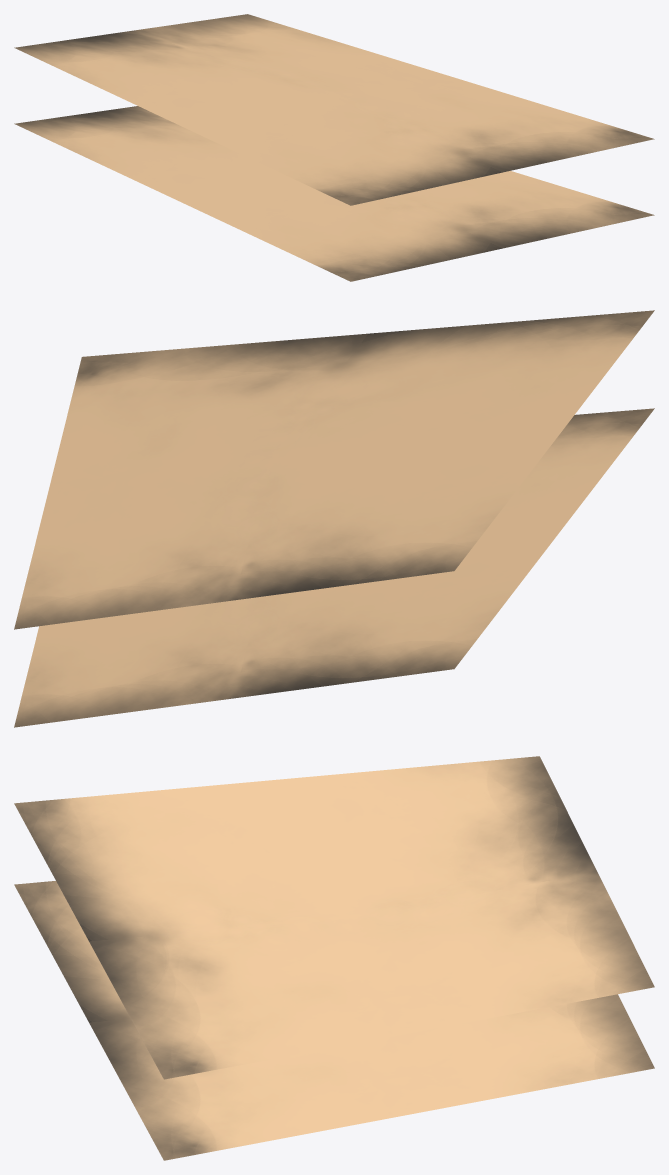
File: CourseSummer_CurveFloor_8_2.fbx
3 renders of one model, top to bottom at view 1: azimuth 30°, elevation 25°; view 2: azimuth 150°, elevation 25°; view 3: azimuth 270°, elevation 25°, orthographic. The views are drawn at different scales.
Parts seen in each view (by area): view 1: polySurface374; view 2: polySurface374; view 3: polySurface374.
Part boxes in pixels (bbox=[...]): polySurface374: bbox=[14, 14, 654, 281]; polySurface374: bbox=[14, 310, 654, 727]; polySurface374: bbox=[14, 756, 654, 1160].
Bounding box in the file's own units: 6.4 × 2 × 7.16.
1 material, 1 textured.
